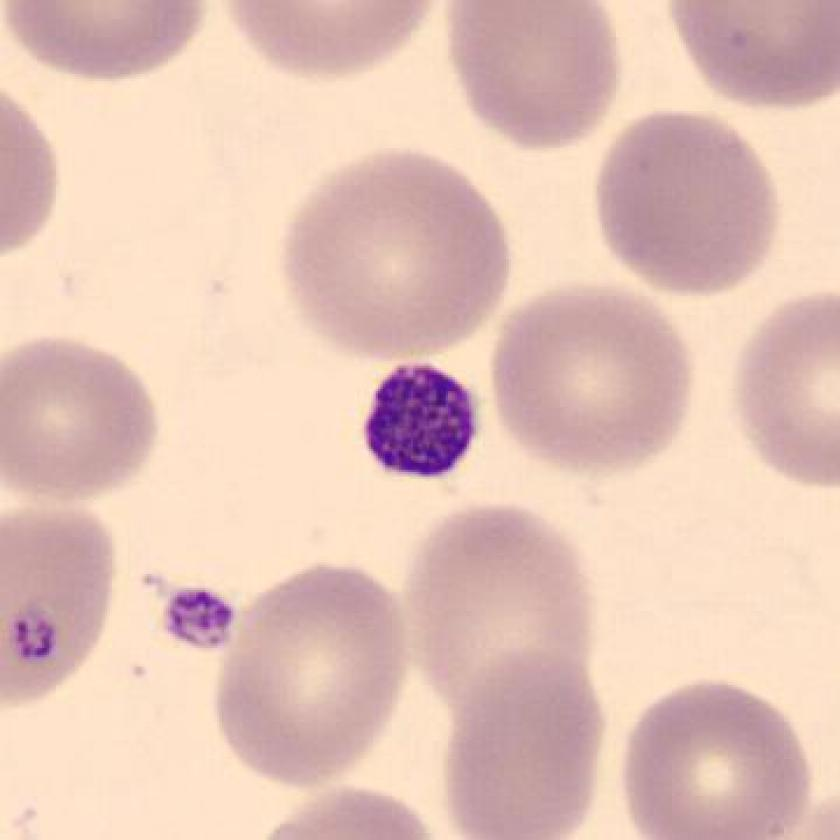platelets: (361, 362, 480, 482), (153, 577, 244, 663), (1, 601, 62, 675)
